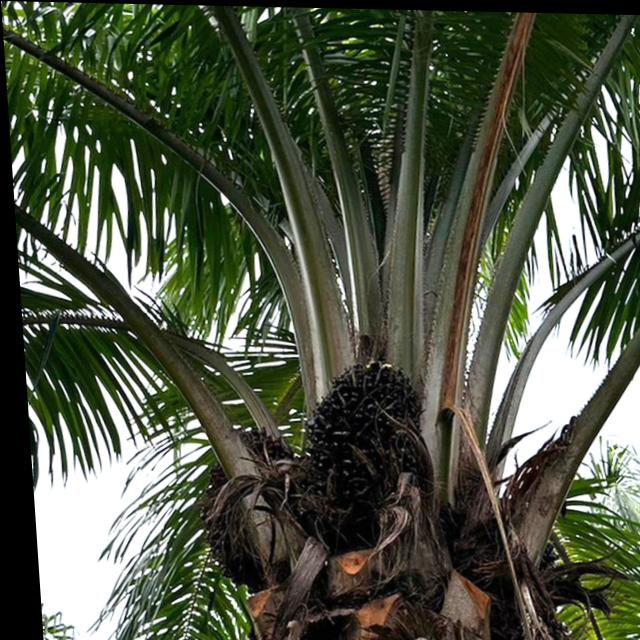unripe: (281, 348, 435, 541), (182, 417, 308, 595)
